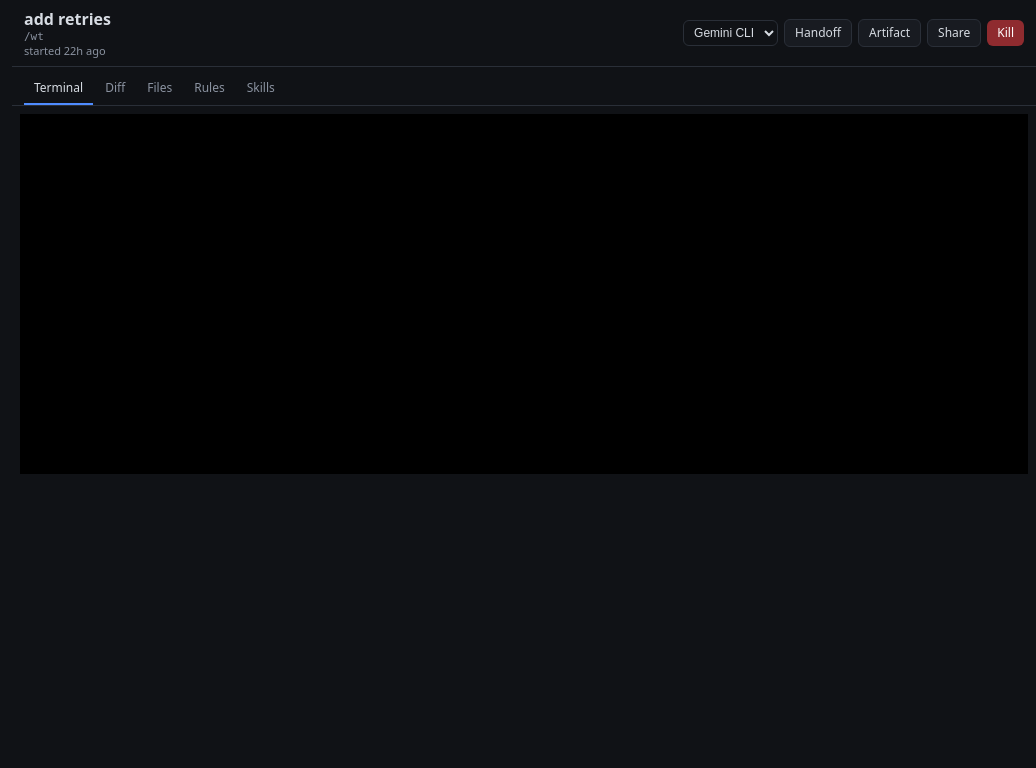
Scenario: SessionDetail › hides Share until a workspace is configured, then shares with a banner
The width and height of the screenshot is (1036, 768).
Click the button with test id "share-button": click(954, 33) [927,19,981,47]
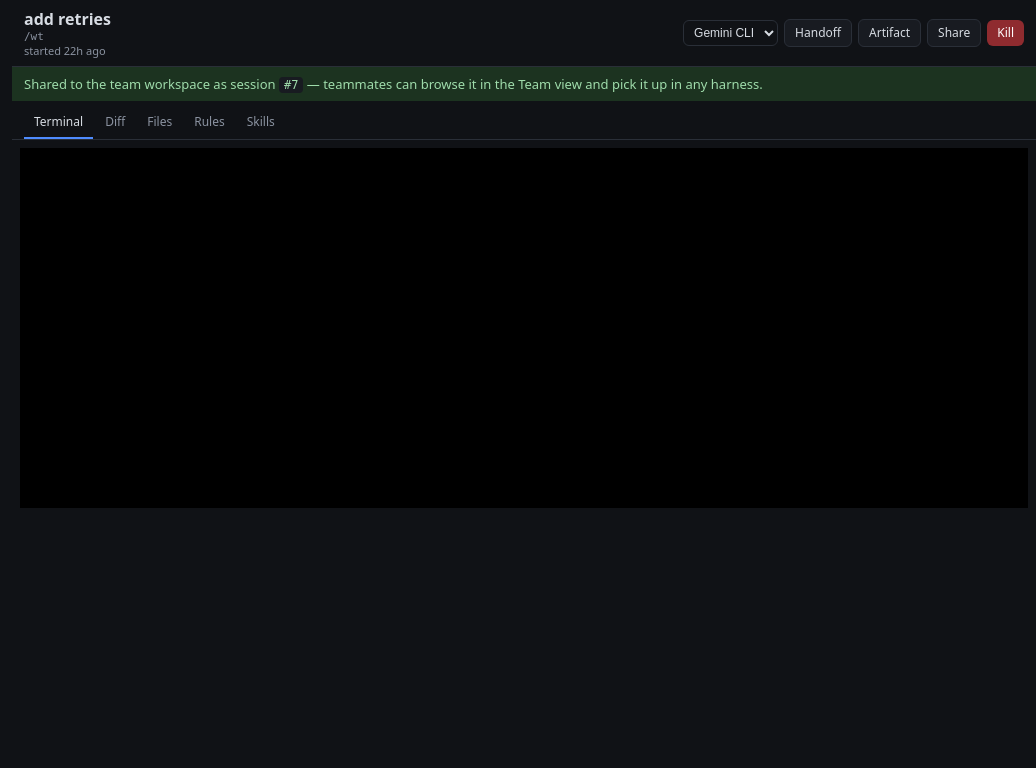
Expected: the element with test id "share-banner" shows "#7", [12,67,1035,101]
Expected: the element with test id "share-banner" shows "Team view", [303,75,763,93]
Click the button with test id "share-button": click(954, 33) [927,19,981,47]
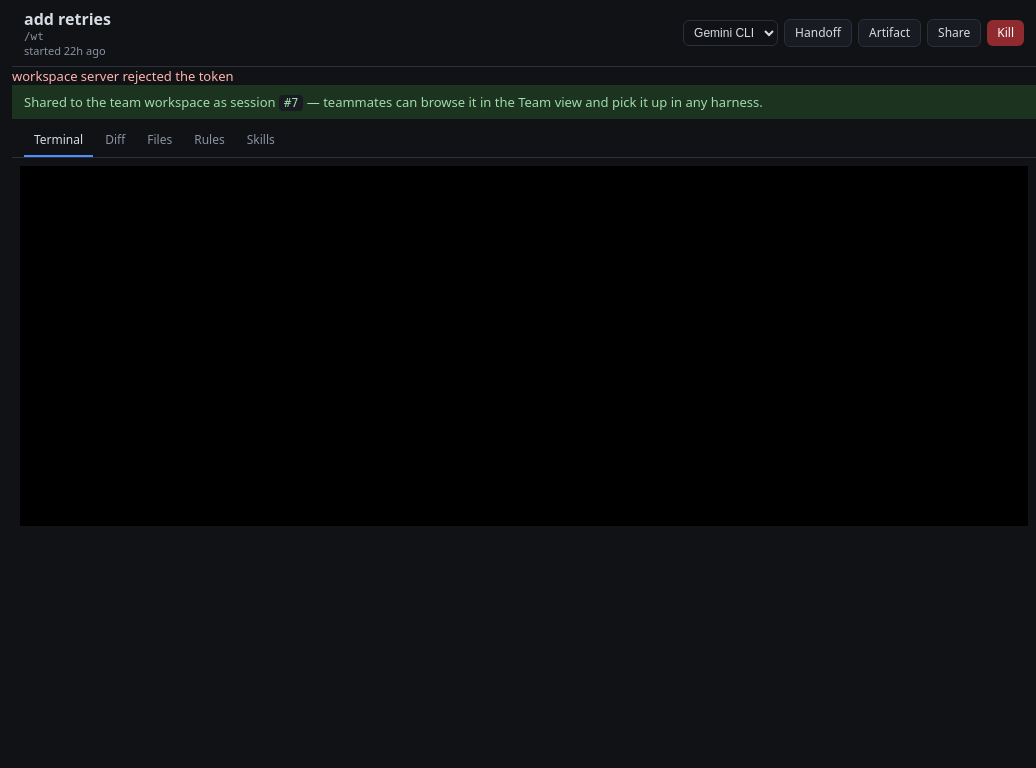
Expected: the message shows "rejected the token", [12,67,234,85]
